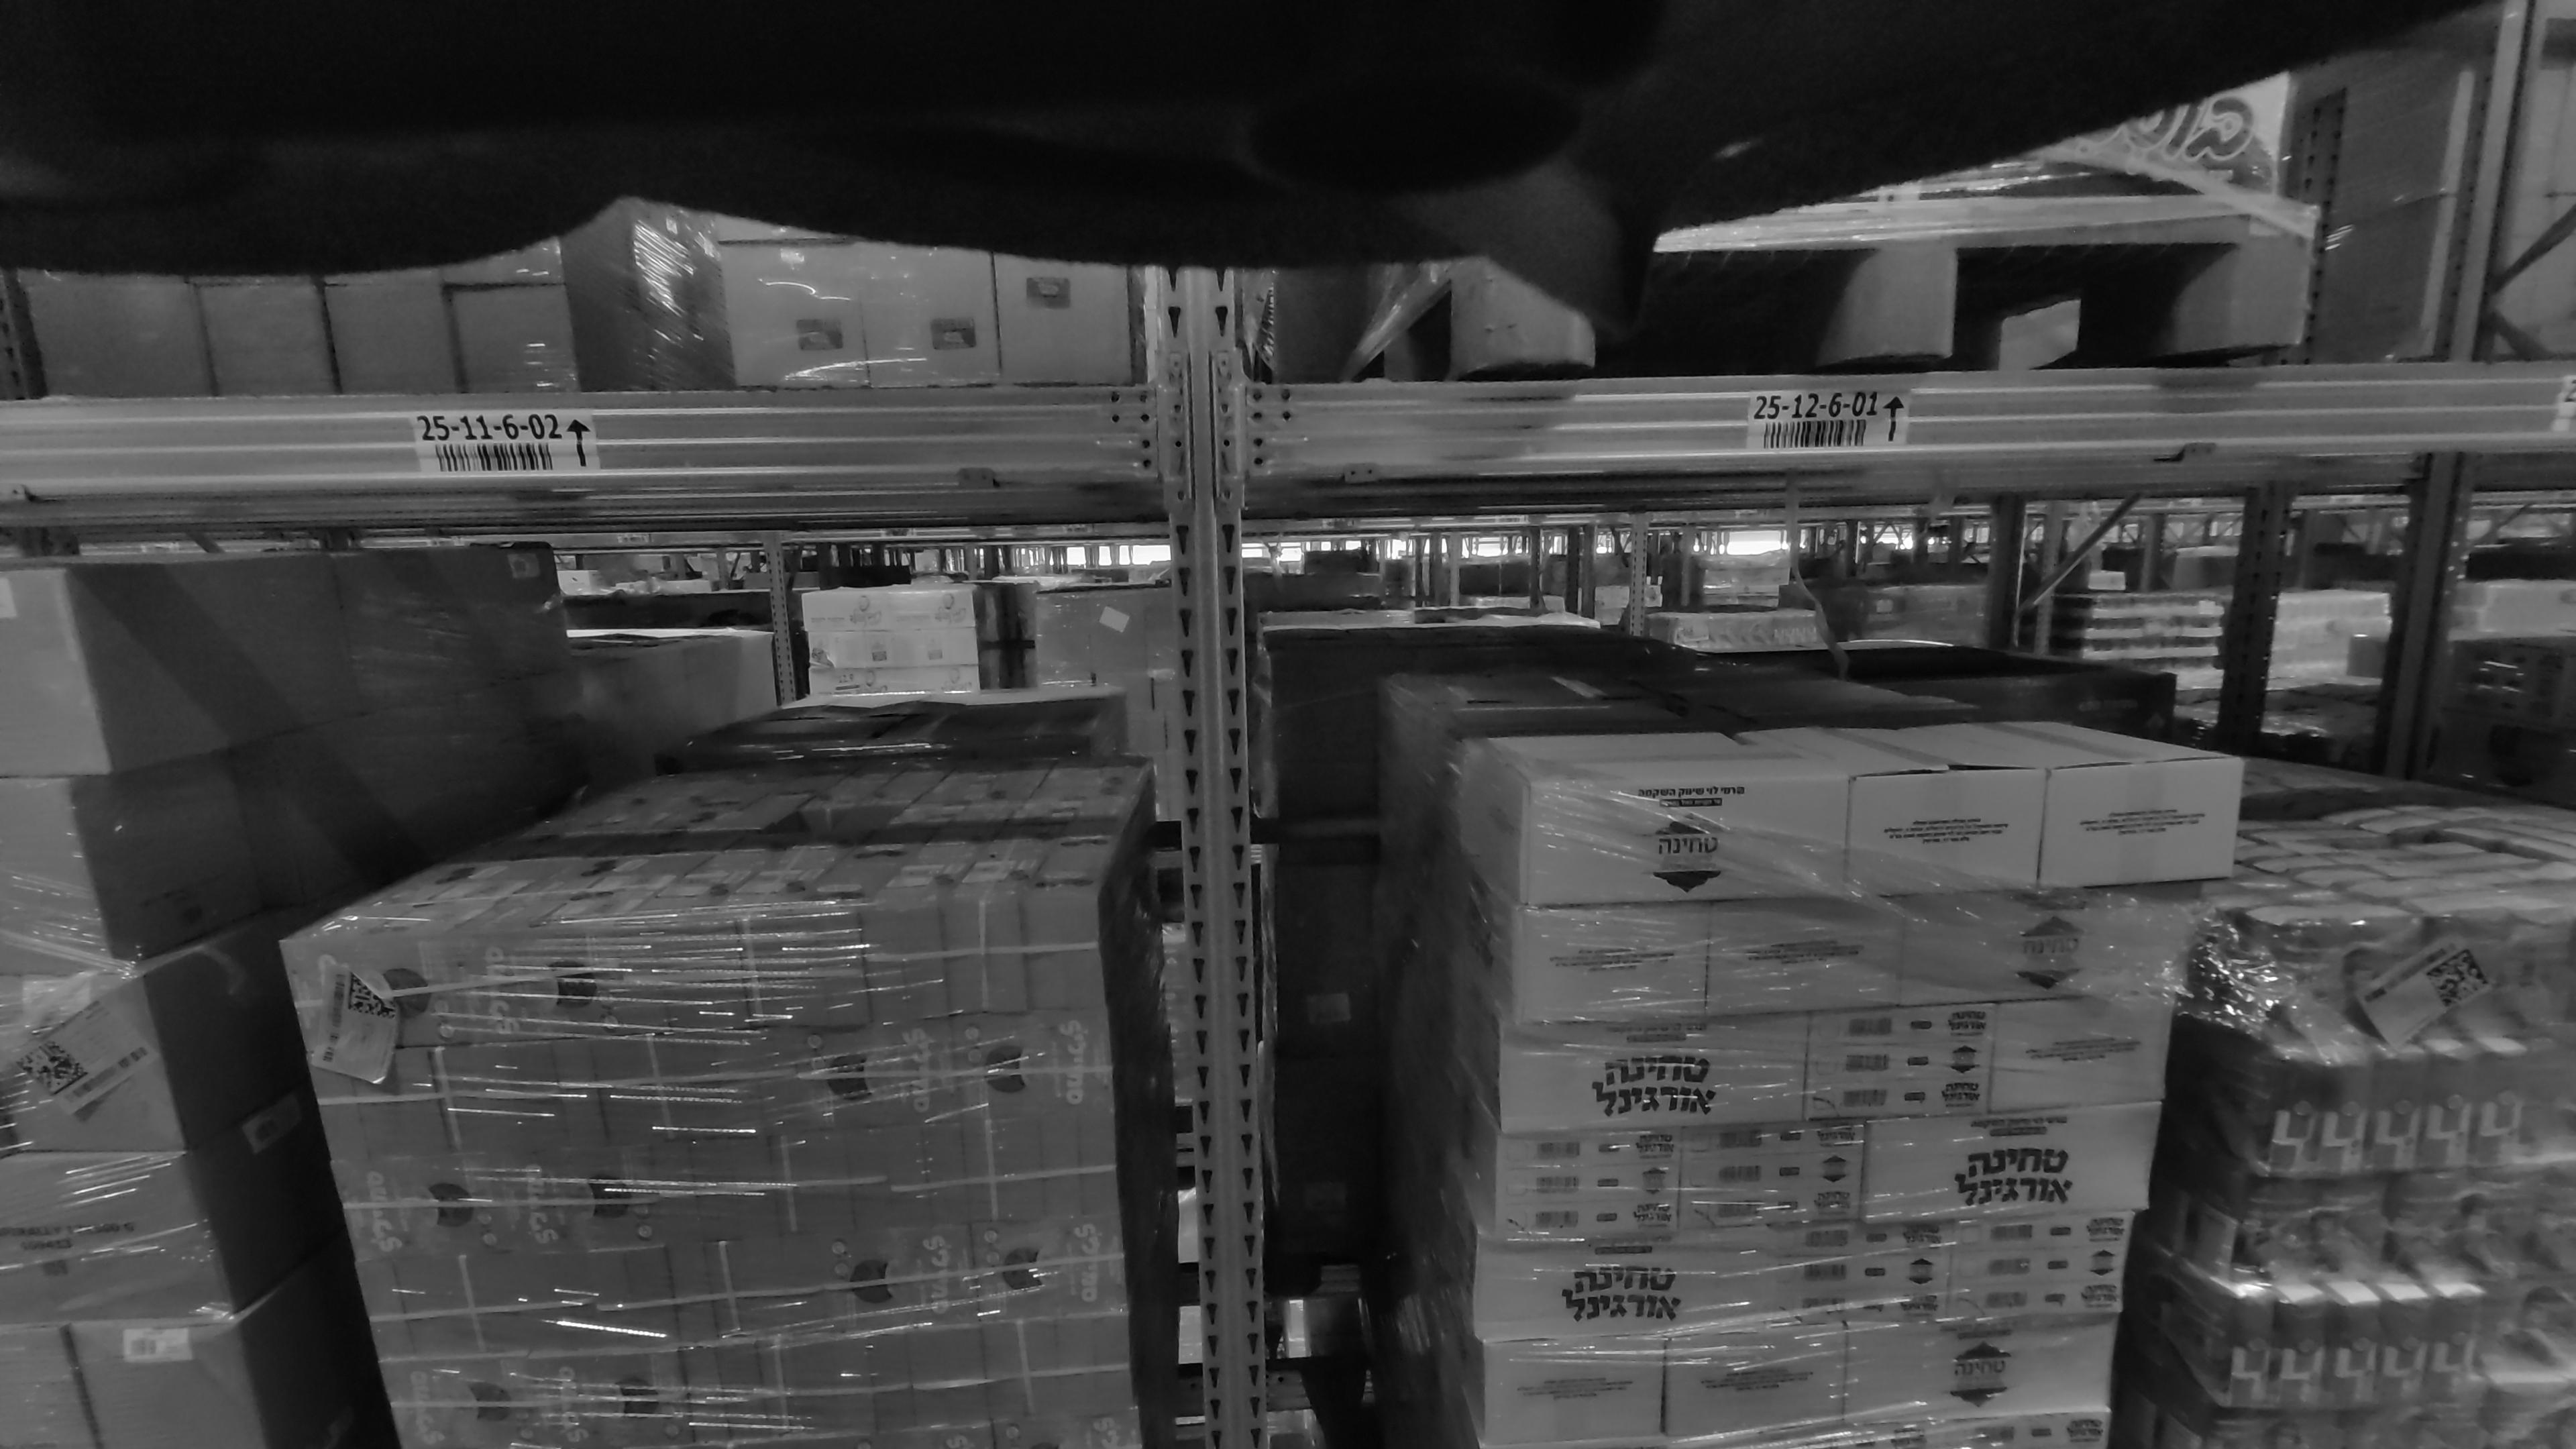empty-shelf: (111, 205, 1028, 396)
